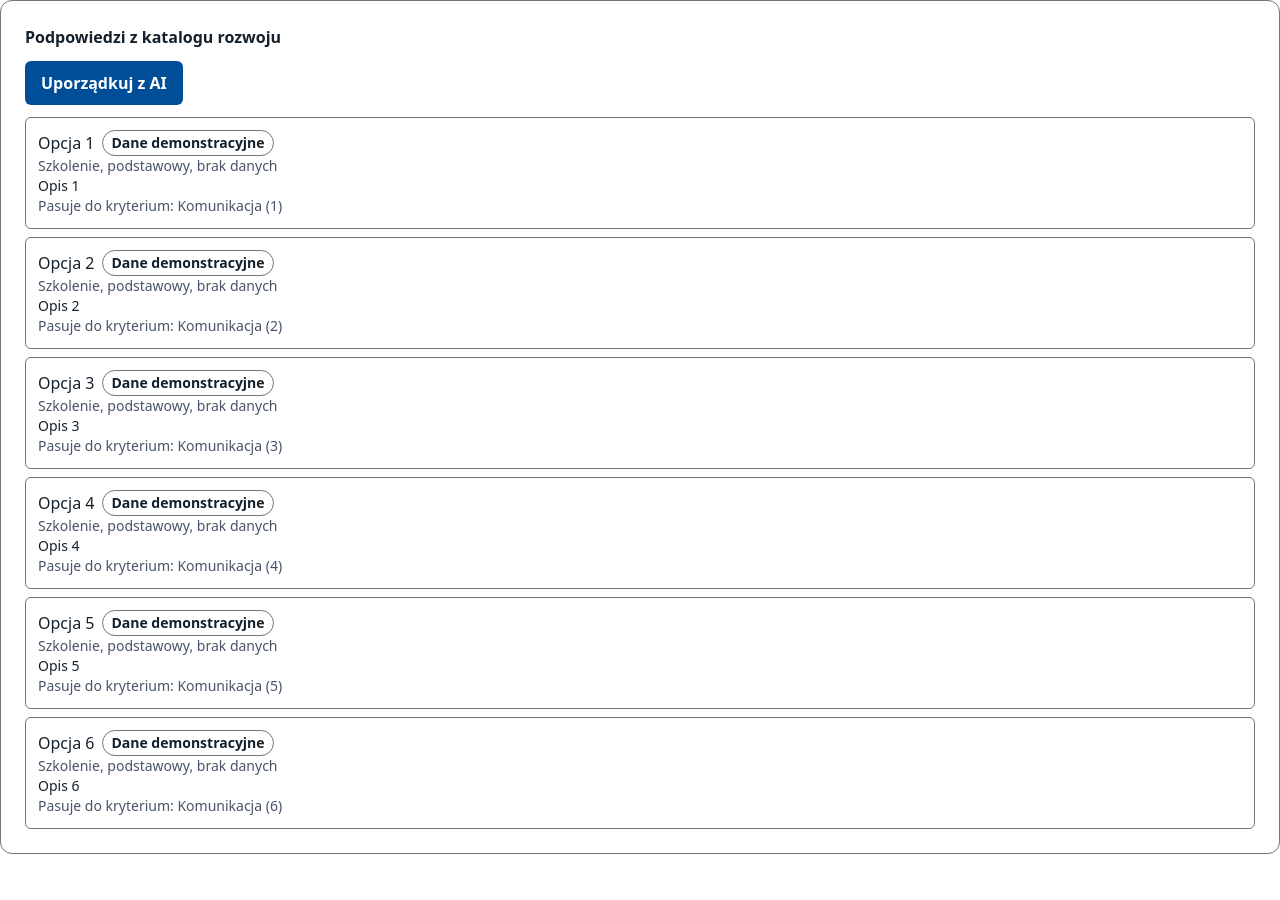
it: DevelopmentSuggestions › keeps the list usable when the action throws
Click the button "Uporządkuj z AI" at [104, 83], box 25,61 -> 183,105
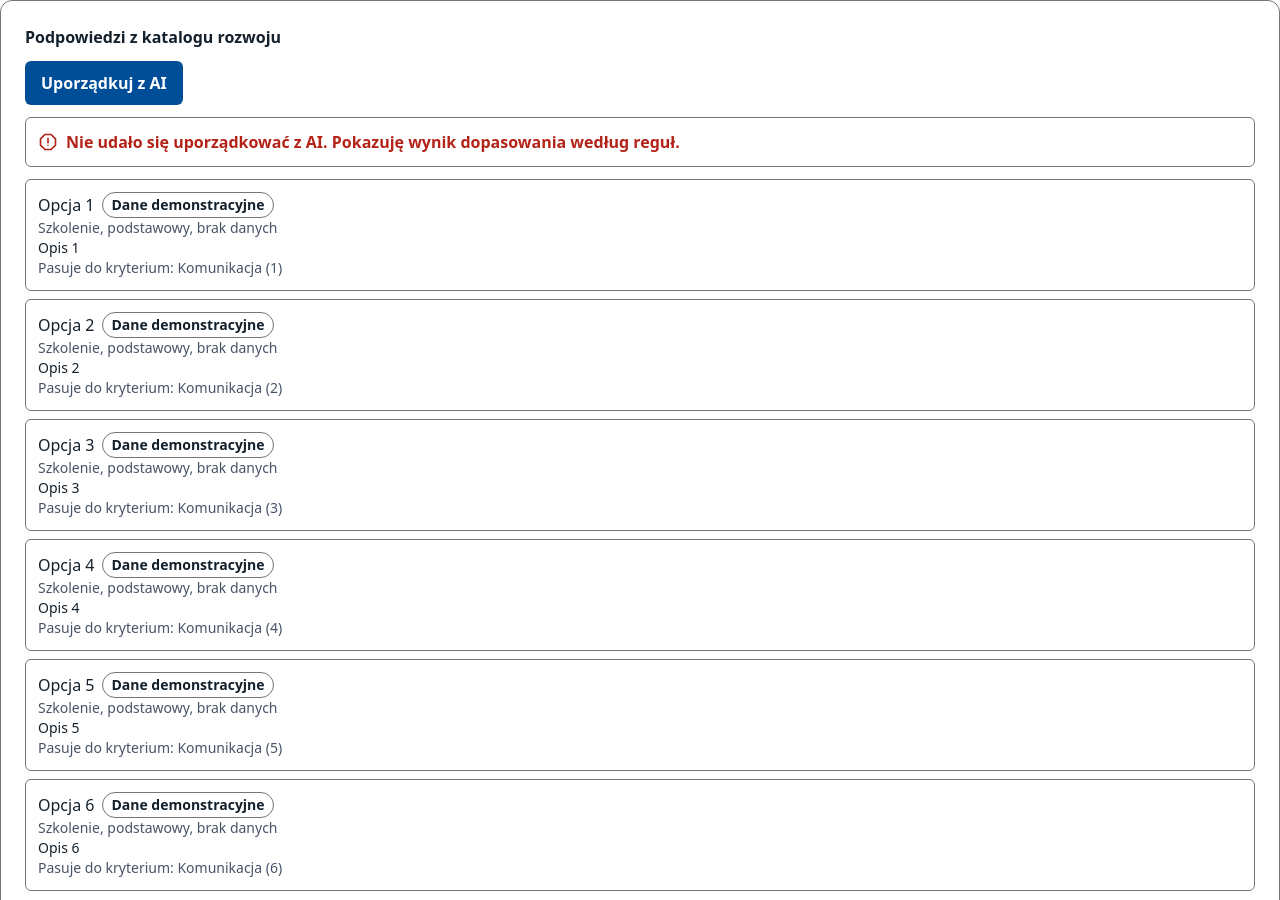
Expected: the text "Opcja 1" is shown, 38,193 -> 94,217
Result: the message shows "Nie udało się uporządkować z AI" at 66,131 -> 680,153
